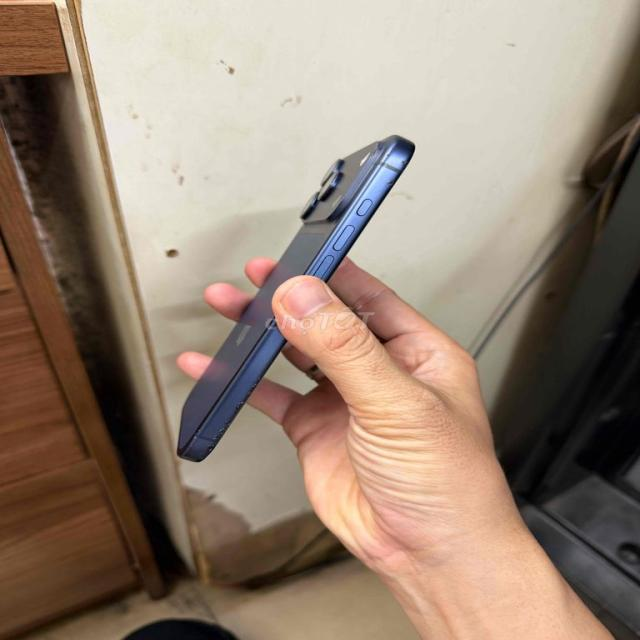gen_17: (178, 136, 414, 461)
